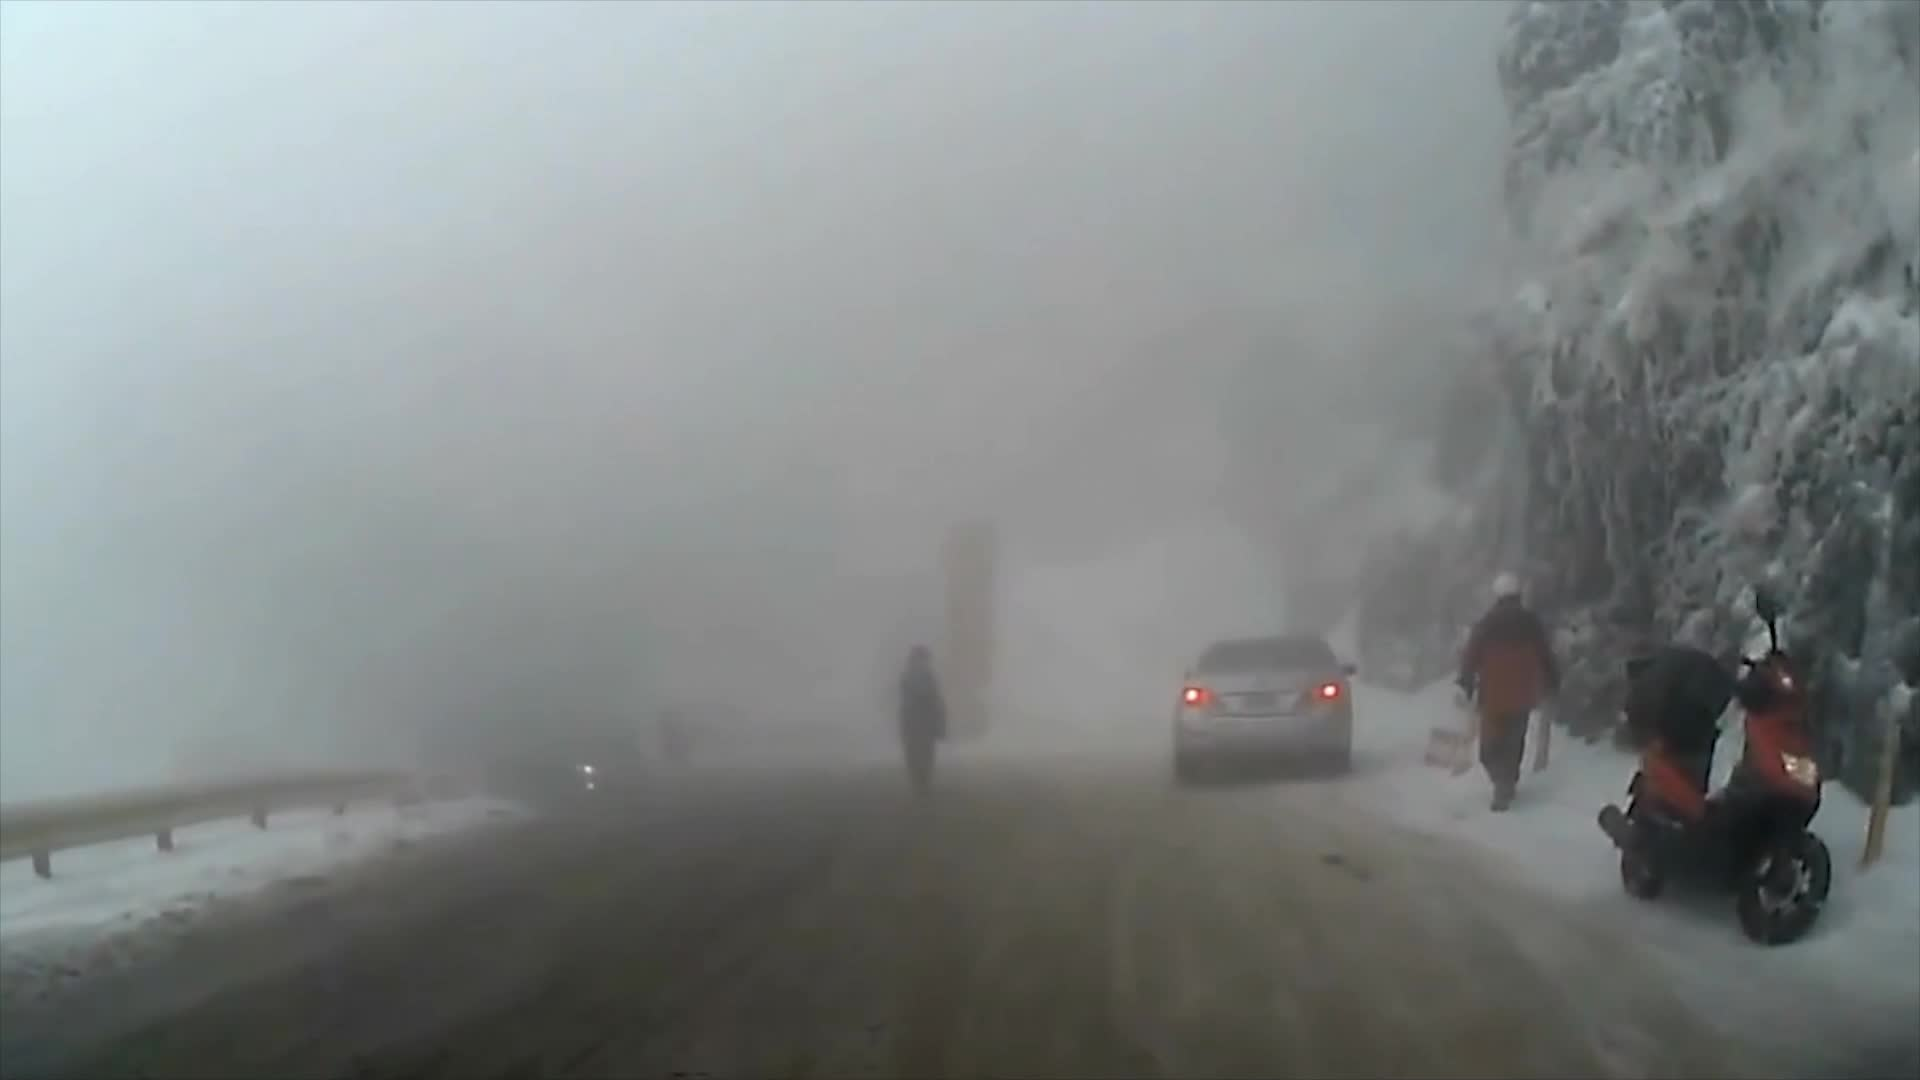pedestrian: (1459, 569, 1563, 816), (895, 642, 944, 802)
vehicle: (1171, 633, 1359, 787)
